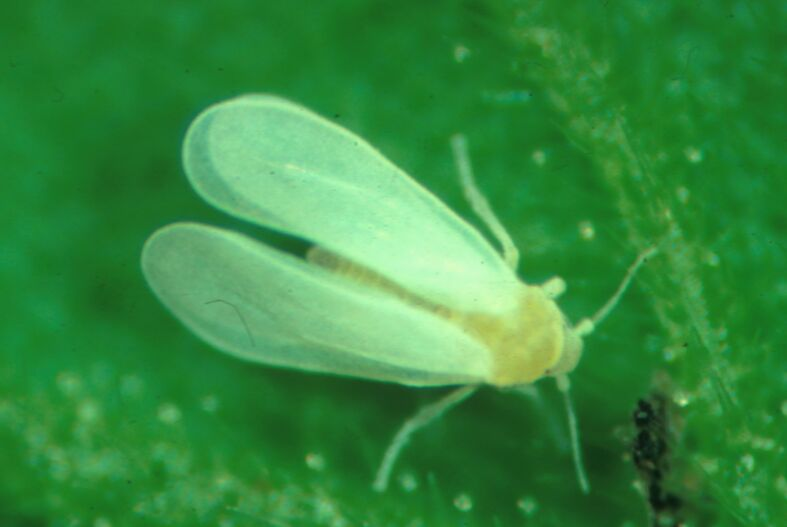whitefly: (140, 94, 657, 496)
